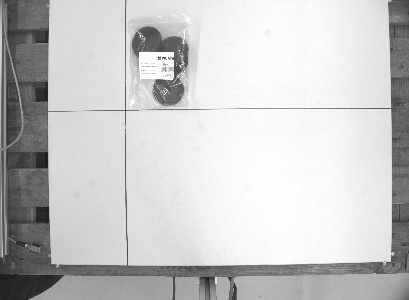t1: (126, 11, 193, 111)
